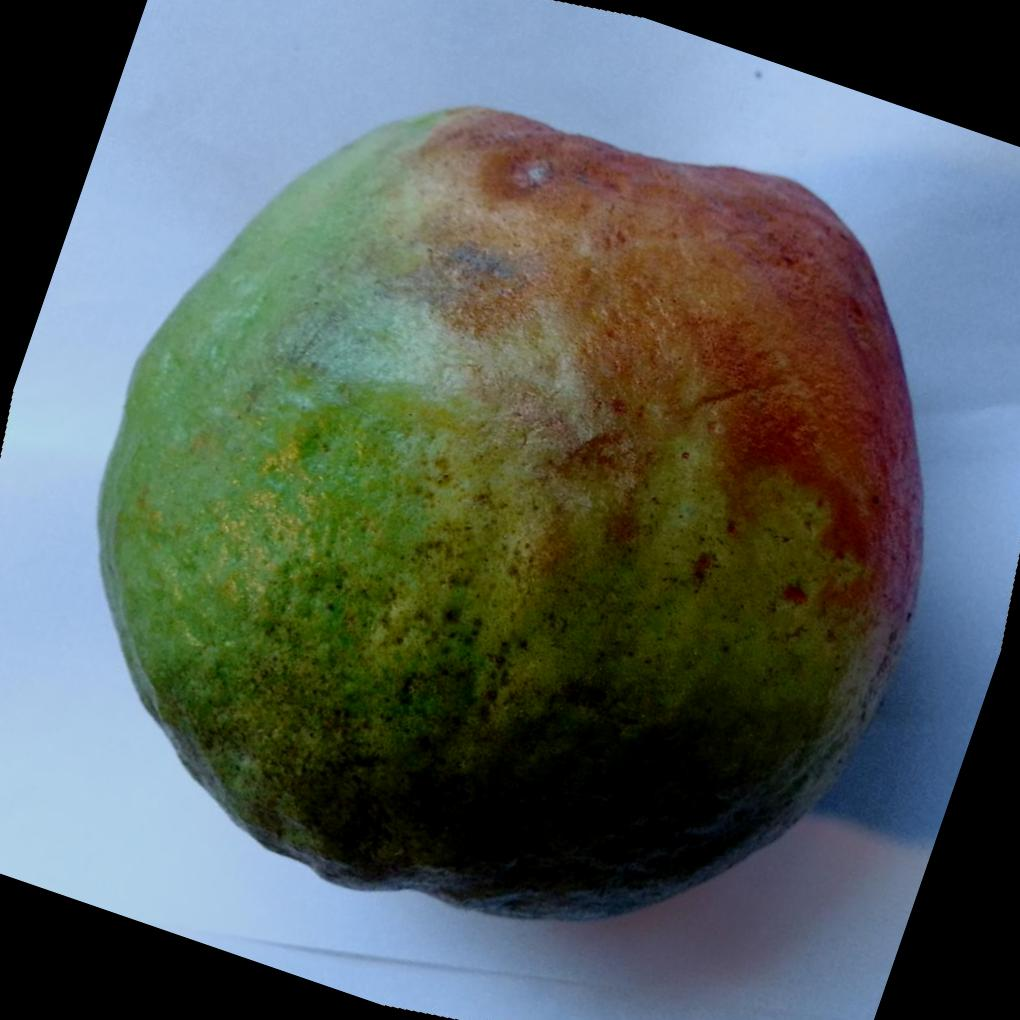FreshOrange: (97, 99, 925, 922)
